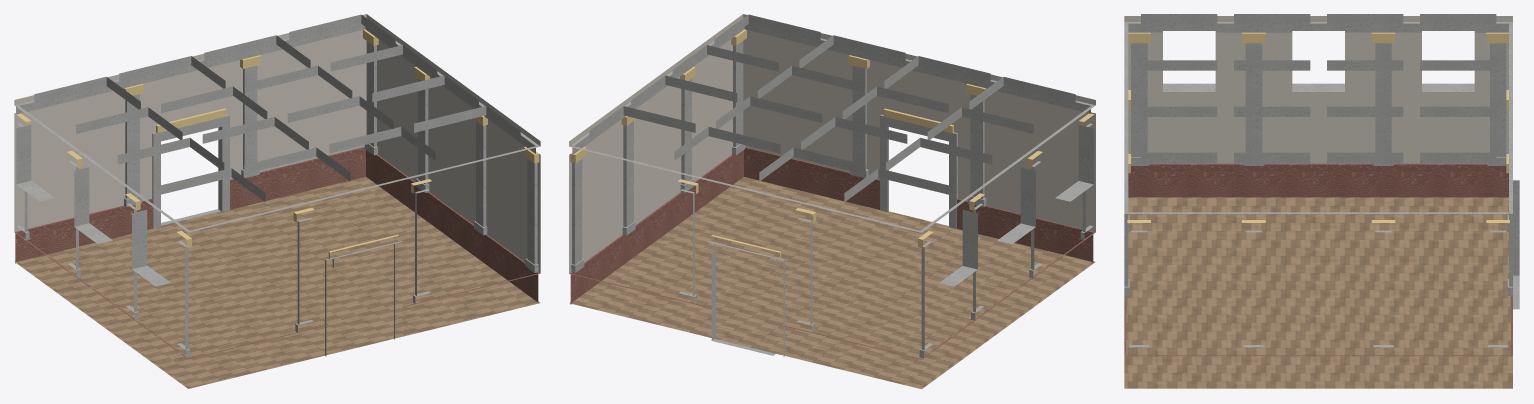
Rendered from phototroph.glb.
3 renders of one model, left to right at view 1: azimuth 30°, elevation 25°; view 2: azimuth 150°, elevation 25°; view 3: azimuth 270°, elevation 25°, orthographic. The views are drawn at different scales.
Parts seen in each view (by area): view 1: phototroph; view 2: phototroph; view 3: phototroph.
Boxes of the visible parts, box(x1,y1,x2,y2) form: phototroph: box(14, 14, 540, 388); phototroph: box(569, 14, 1095, 389); phototroph: box(1124, 14, 1519, 388).
Size of the model in its own units: 14.4 by 6.4 by 12.
7 materials, 4 textured.
